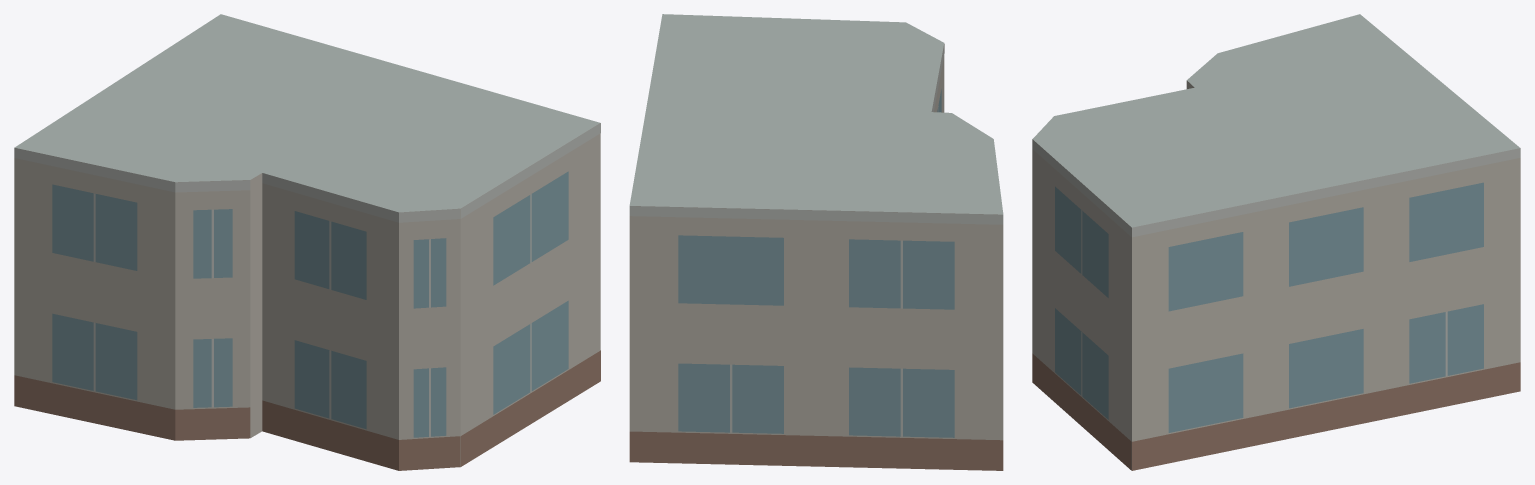
File: survey-upis-32687595.glb
The picture shows the model from 3 angles, left to right: view 1: azimuth 30°, elevation 25°; view 2: azimuth 150°, elevation 25°; view 3: azimuth 270°, elevation 25°; orthographic projection. The views are drawn at different scales.
Parts seen in each view (by area): view 1: survey-upis-32687595.tmp; view 2: survey-upis-32687595.tmp; view 3: survey-upis-32687595.tmp.
Part boxes in pixels (left/top/right/bottom): survey-upis-32687595.tmp: left=14, top=14, right=600, bottom=470; survey-upis-32687595.tmp: left=629, top=14, right=1003, bottom=470; survey-upis-32687595.tmp: left=1032, top=14, right=1520, bottom=470.
Size of the model in its own units: 11.5 by 6.1 by 11.11.
